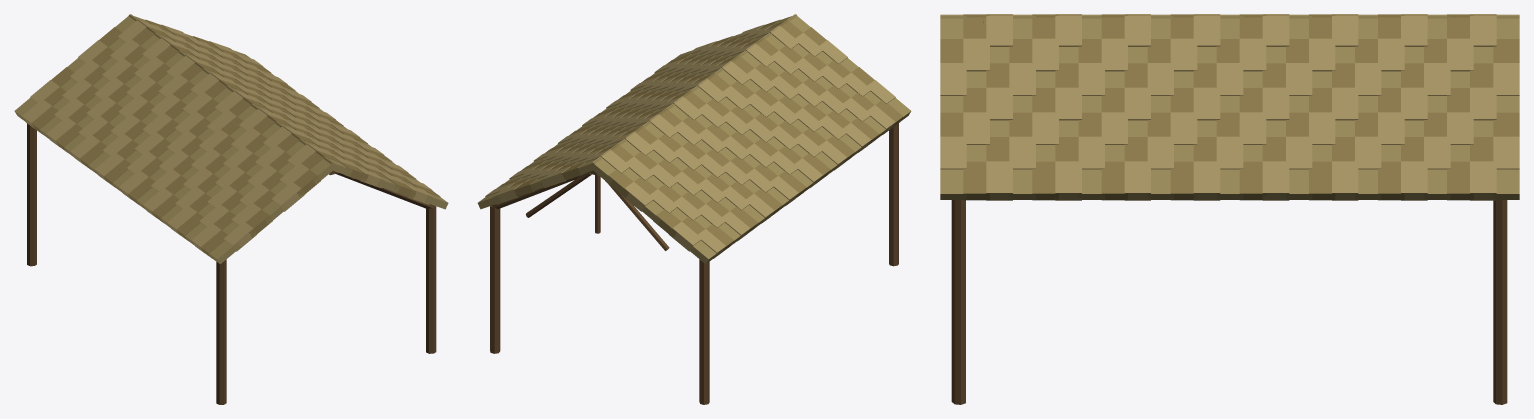
File: shelter.glb
3 renders of one model, left to right at view 1: azimuth 30°, elevation 25°; view 2: azimuth 150°, elevation 25°; view 3: azimuth 270°, elevation 25°, orthographic. The views are drawn at different scales.
Visible parts, largest first — view 1: ForestShelter; view 2: ForestShelter; view 3: ForestShelter.
Part boxes in pixels (bbox=[...]): ForestShelter: bbox=[14, 14, 448, 404]; ForestShelter: bbox=[477, 14, 911, 404]; ForestShelter: bbox=[940, 14, 1519, 404].
Size of the model in its own units: 3.32 by 3.01 by 5.03.
